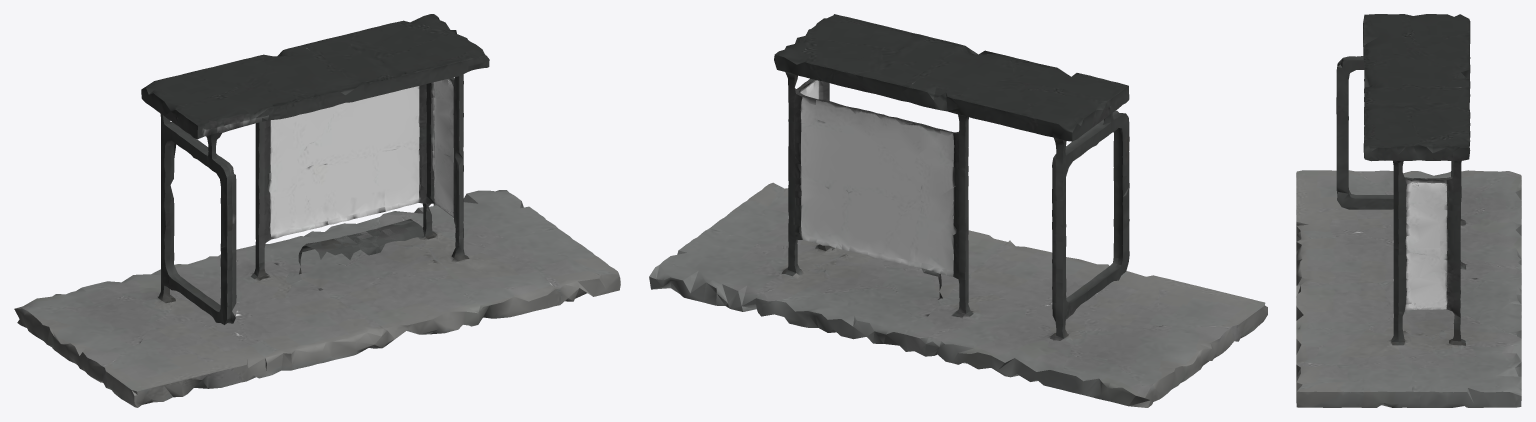
The model's file is ponto_cidade.glb.
3 views of the same model, side by side, from view 1: azimuth 30°, elevation 25°; view 2: azimuth 150°, elevation 25°; view 3: azimuth 270°, elevation 25° (orthographic). The views are drawn at different scales.
Visible parts, largest first — view 1: mascara; view 2: mascara; view 3: mascara.
Part boxes in pixels (x1=…): mascara: x1=14, y1=14, x2=620, y2=407; mascara: x1=649, y1=14, x2=1267, y2=407; mascara: x1=1296, y1=14, x2=1521, y2=407.
Size of the model in its own units: 5.56 by 2.54 by 2.39.
1 material, 1 textured.
